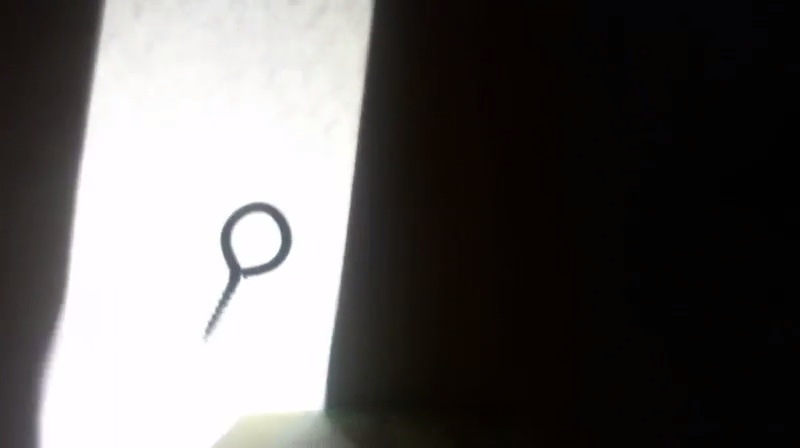O001: (195, 198, 295, 344)
